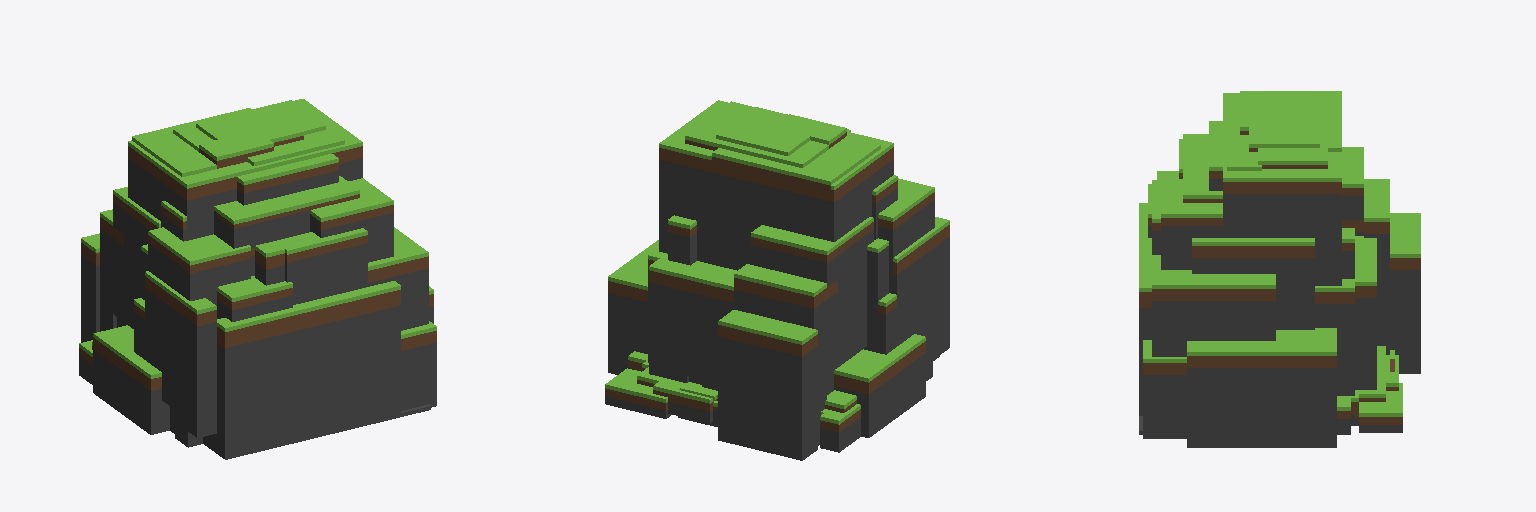
3 renders of one model, left to right at view 1: azimuth 30°, elevation 25°; view 2: azimuth 150°, elevation 25°; view 3: azimuth 270°, elevation 25°, orthographic.
Visible parts, largest first — view 1: object 1; view 2: object 1; view 3: object 1.
Boxes of the visible parts, x1=… form: object 1: x1=79, y1=99, x2=436, y2=459; object 1: x1=605, y1=100, x2=949, y2=460; object 1: x1=1139, y1=91, x2=1420, y2=447.
Size of the model in its own units: 6.9 by 6.4 by 6.4.
Materials: 1 (1 with a texture image).